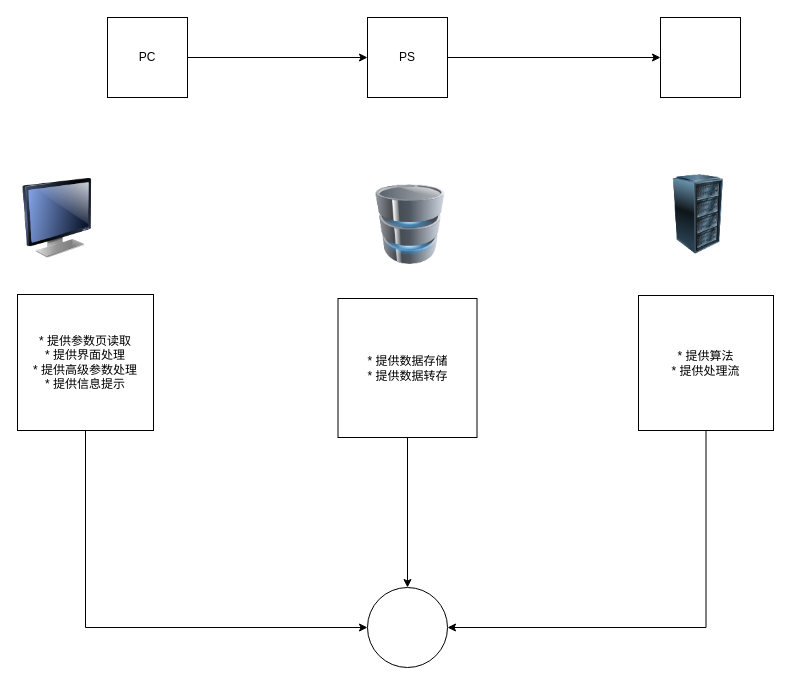
The diagram is 791 pixels wide and 685 high, and some of its shapes have lost their labels. Each missing label, with the centre of its shape:
"PL" belongs at pixel 700 57.
"开始" belongs at pixel 407 627.
